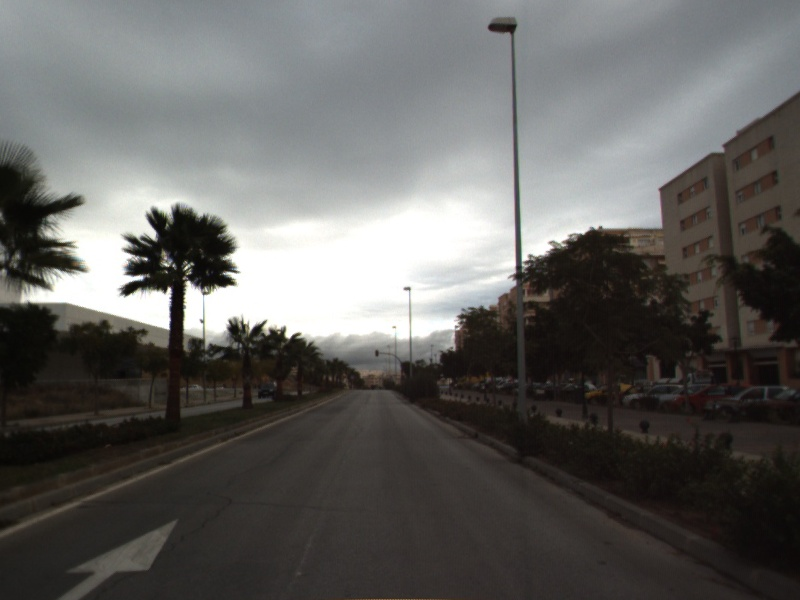STRAIGHT: (51, 514, 181, 600)
